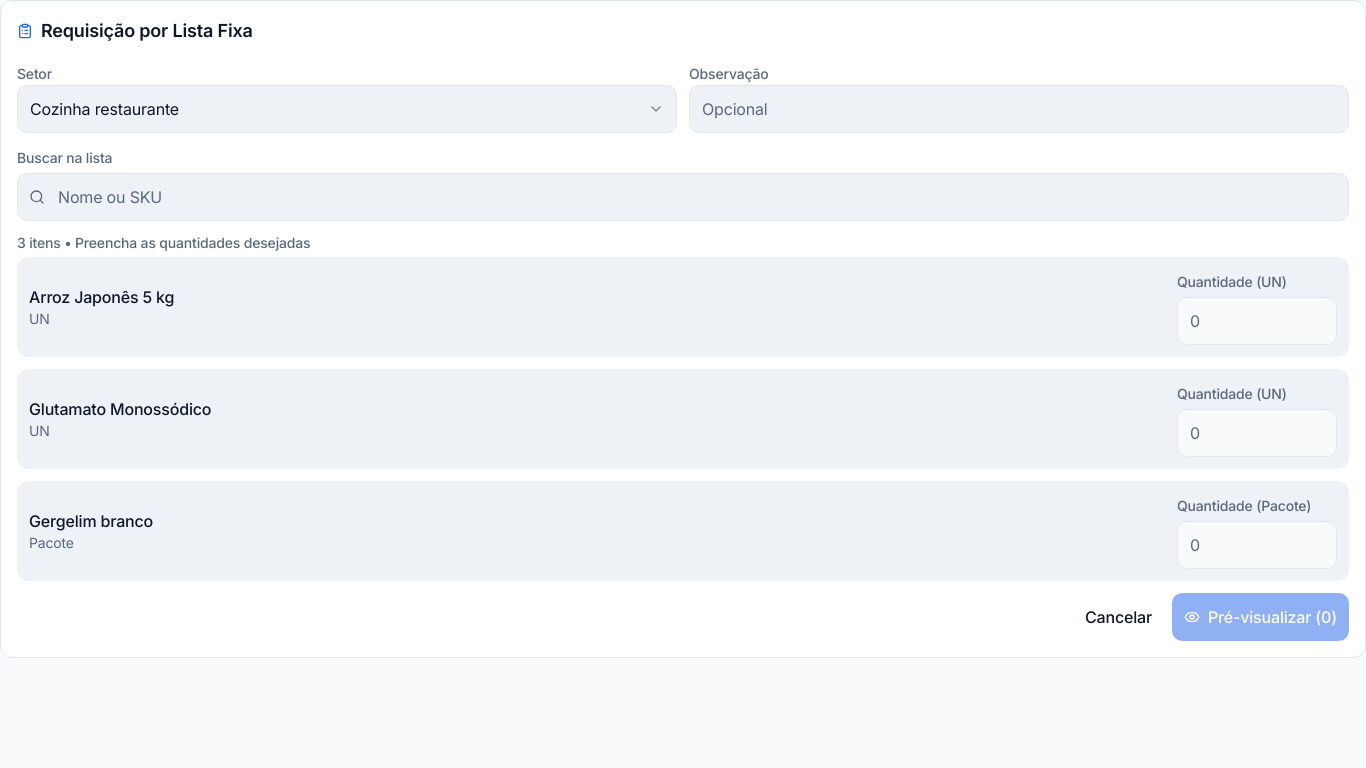
Requisição por Lista Fixa — busca na lista › filtra por nome sem acento e por SKU, mantendo as quantidades já digitadas
Type "2" into the field named "Quantidade de Glutamato Monossódico".
click(1257, 433); type("2")  # box [1177,409,1337,457]
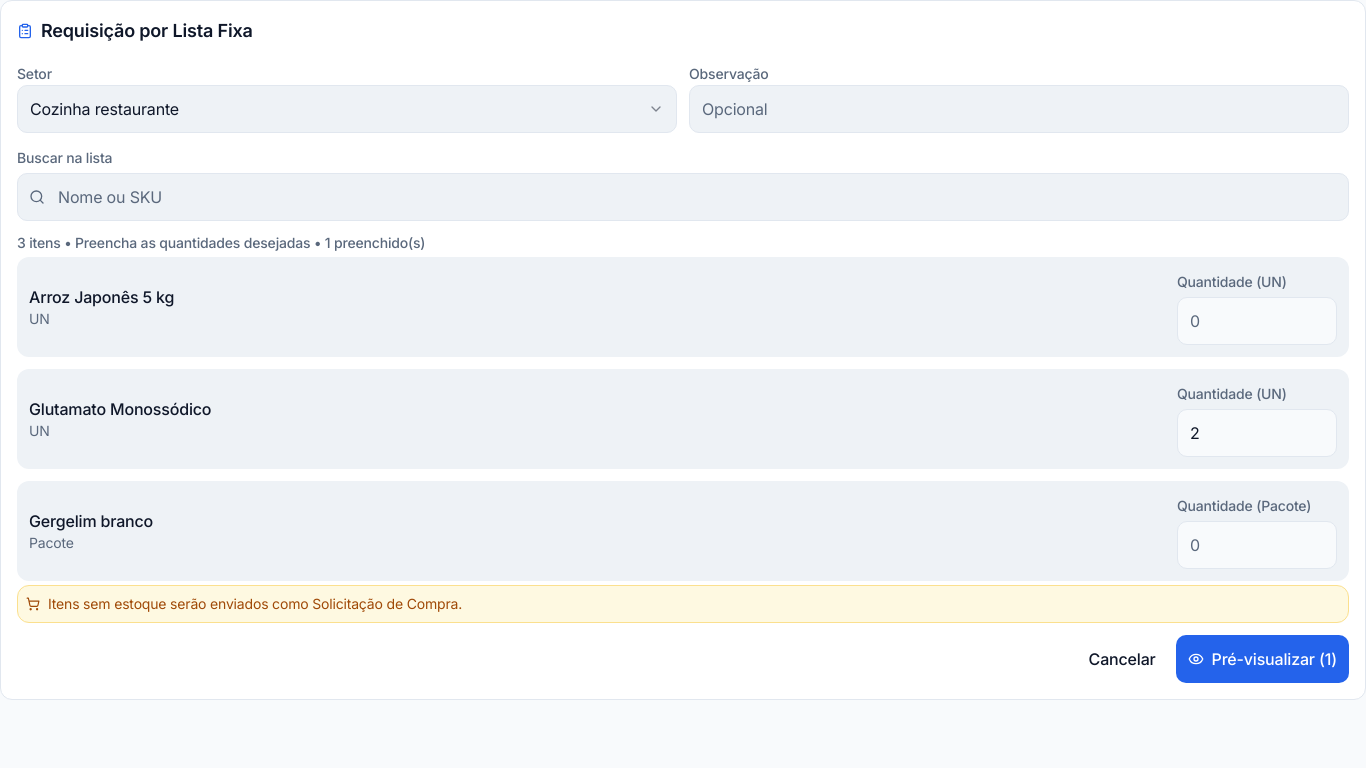
Type "japones" into the field labelled "Buscar na lista".
click(683, 197); type("japones")  # box [17,173,1349,221]
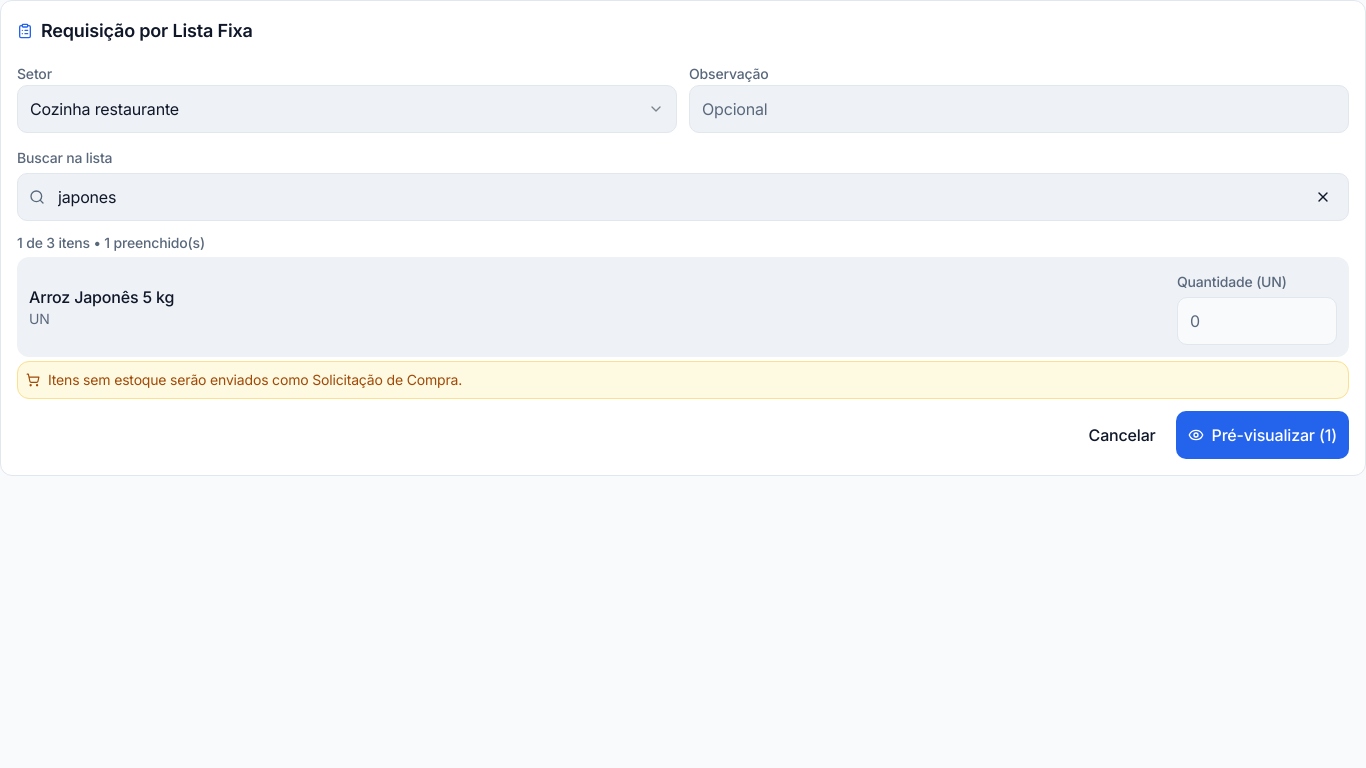
Expected: the message reads "1 de 3 itens • 1 preenchido(s)", [17,234,205,251]
Type "3" into the field named "Quantidade de Arroz Japonês 5 kg".
click(1257, 321); type("3")  # box [1177,297,1337,345]
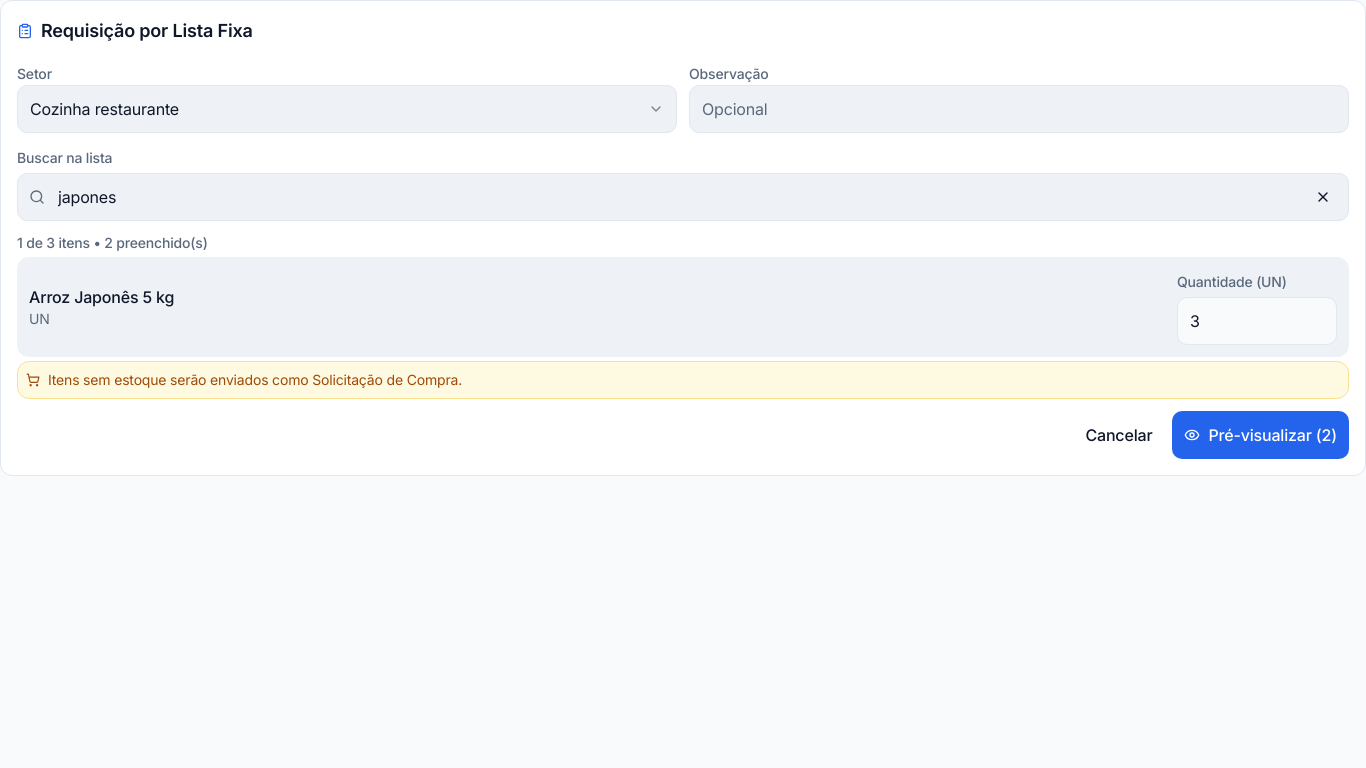
Expected: the button "Pré-visualizar (2)" is enabled, [1172,411,1349,459]
Replace the text in the field labelled "Buscar na lista" with "ger-01" at point(683, 197), box [17,173,1349,221]
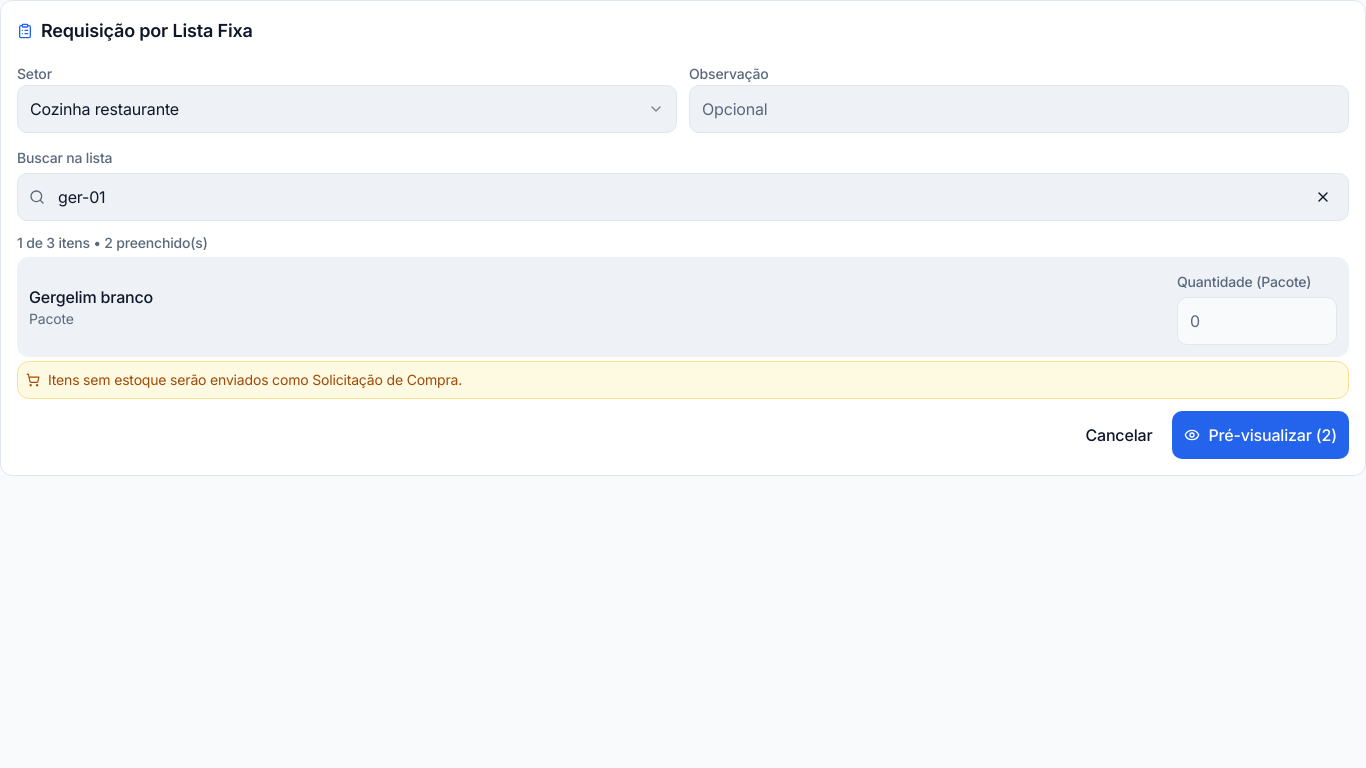
Expected: the field named "Quantidade de Gergelim branco" is shown, [1177,297,1337,345]
Replace the text in the field labelled "Buscar na lista" with "inexistente" at point(683, 197), box [17,173,1349,221]
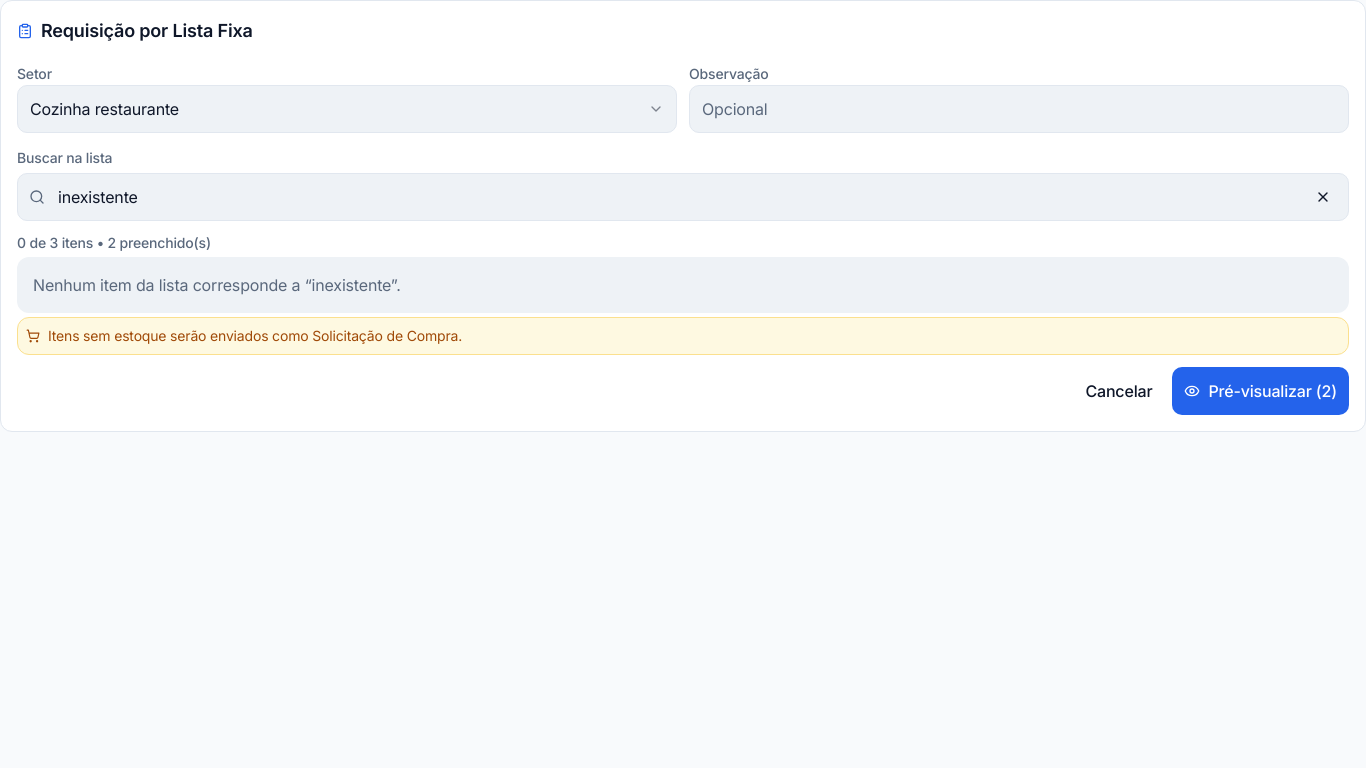
Expected: the text "Nenhum item da lista corresponde a “inexistente”." is shown, [17,257,1349,313]
Click the button named "Limpar busca na lista".
click(1323, 197)  # box [1301,175,1345,219]
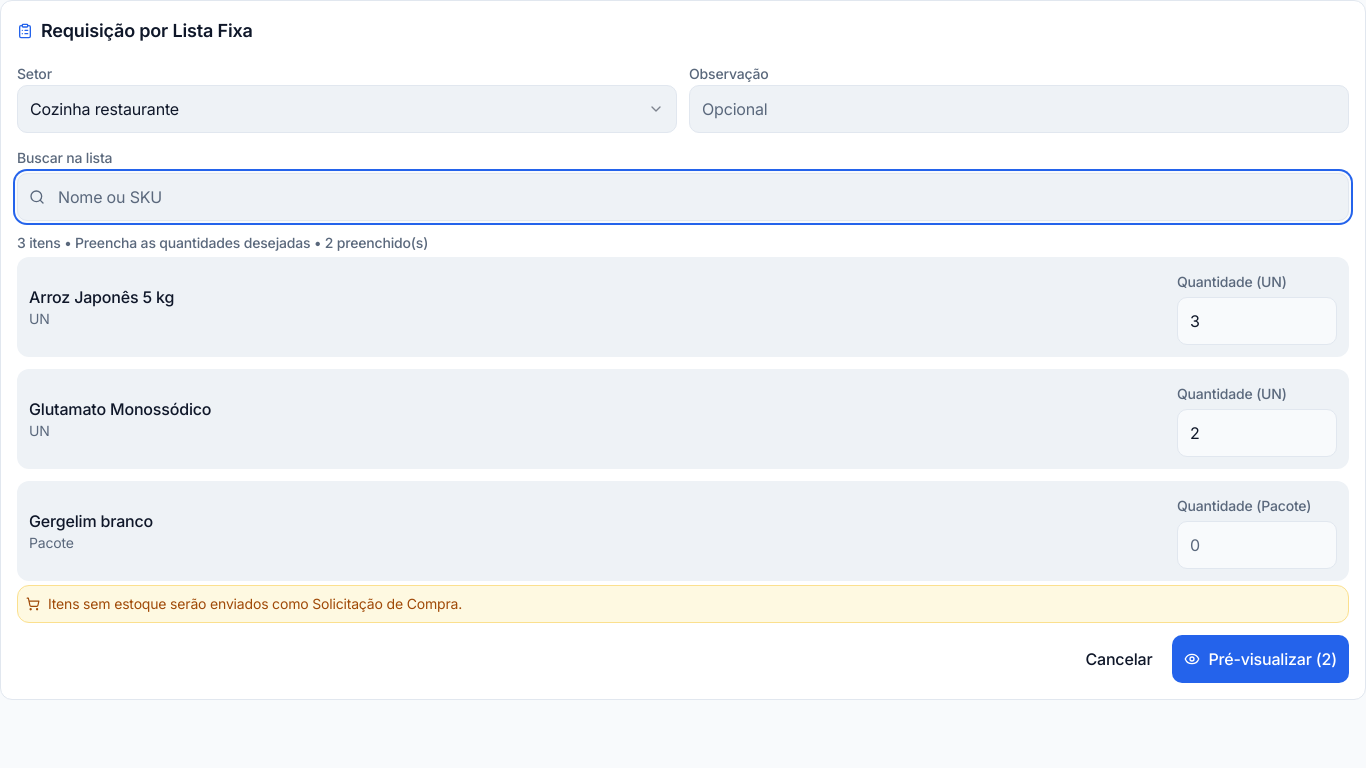
Expected: the field named "Quantidade de Glutamato Monossódico" holds "2", [1177,409,1337,457]
Expected: the field named "Quantidade de Arroz Japonês 5 kg" holds "3", [1177,297,1337,345]
